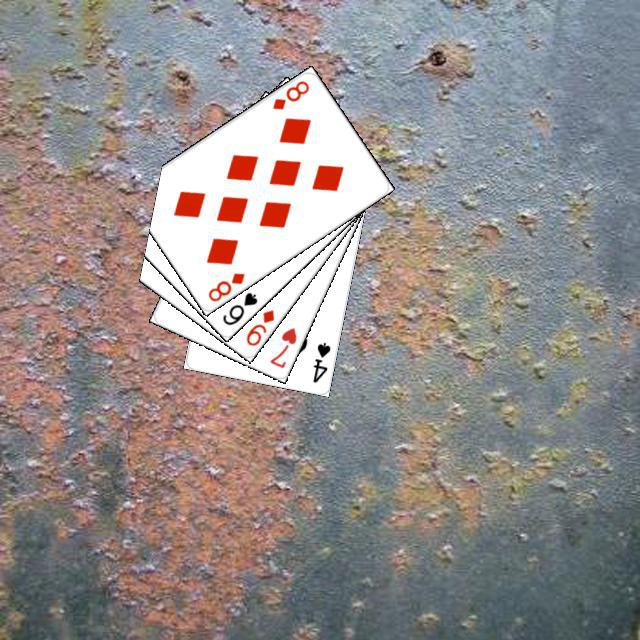4s: (308, 337, 332, 384)
6s: (217, 287, 259, 327)
7h: (265, 323, 298, 370)
8d: (203, 267, 247, 303), (268, 75, 311, 111)
9d: (241, 304, 276, 348)
